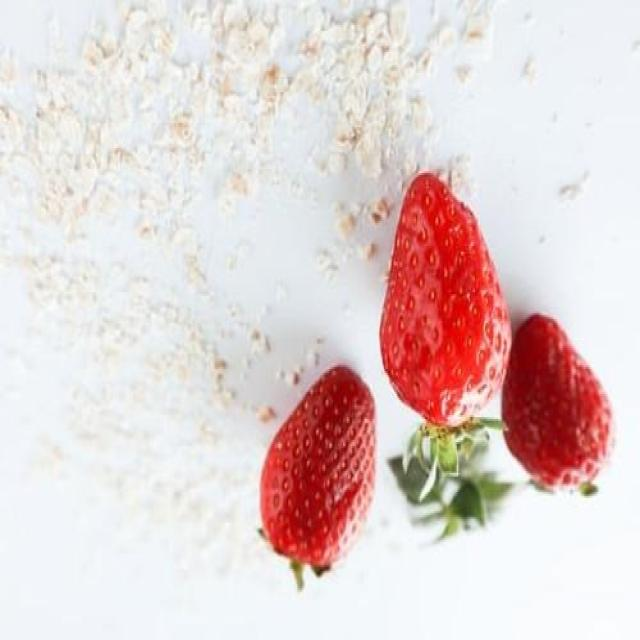mature: (379, 172, 513, 428), (260, 366, 375, 568), (502, 314, 618, 491)
